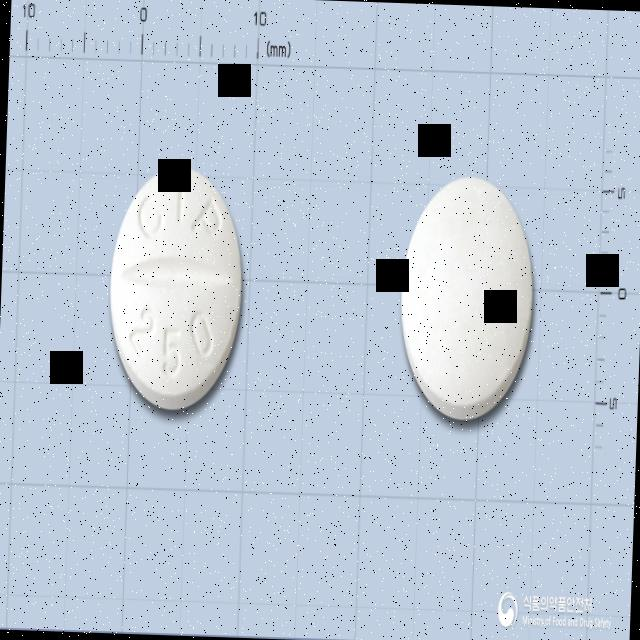Propocin Tab: (106, 165, 246, 412)
